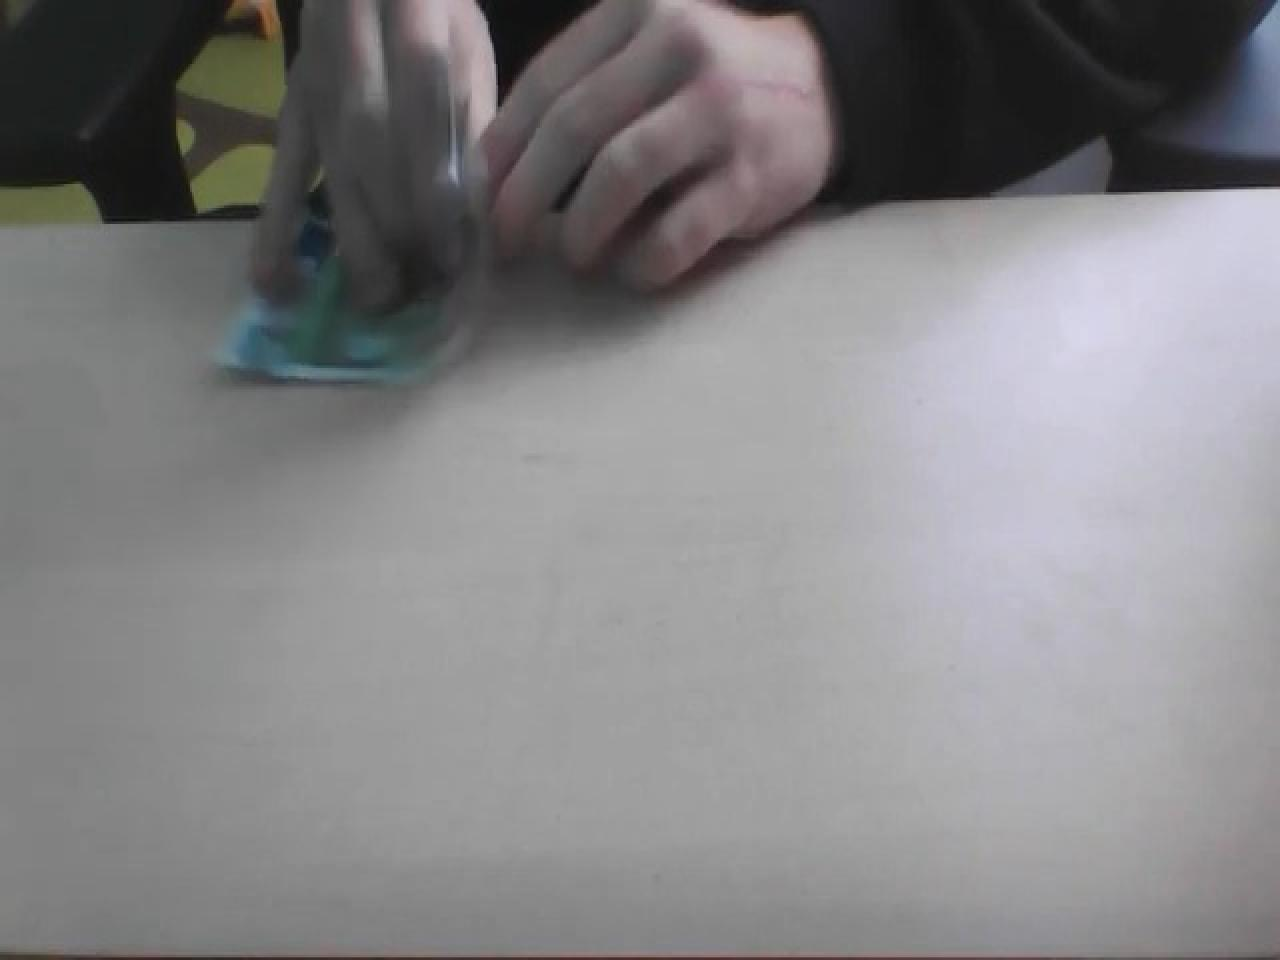100leva: (214, 45, 496, 391)
